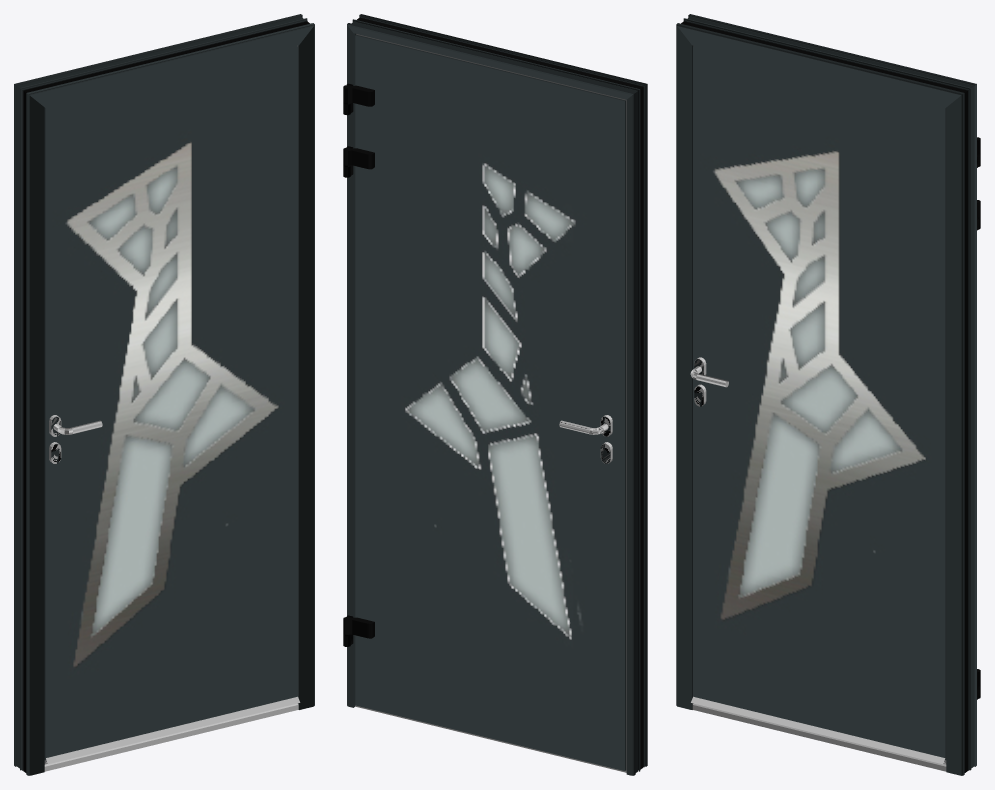
3 renders of one model, left to right at view 1: azimuth 30°, elevation 25°; view 2: azimuth 150°, elevation 25°; view 3: azimuth 330°, elevation 25°, orthographic.
Parts seen in each view (by area): view 1: ouvrant, 85; view 2: ouvrant, 85; view 3: ouvrant, 85.
Part boxes in pixels (x1,y1,x2,y2): ouvrant: (44, 46, 300, 764); 85: (14, 14, 314, 775); ouvrant: (343, 34, 626, 770); 85: (343, 14, 647, 775); ouvrant: (691, 46, 980, 764); 85: (676, 14, 980, 775).
Size of the model in its own units: 96 by 218 by 22.64.
Materials: 1 (1 with a texture image).
